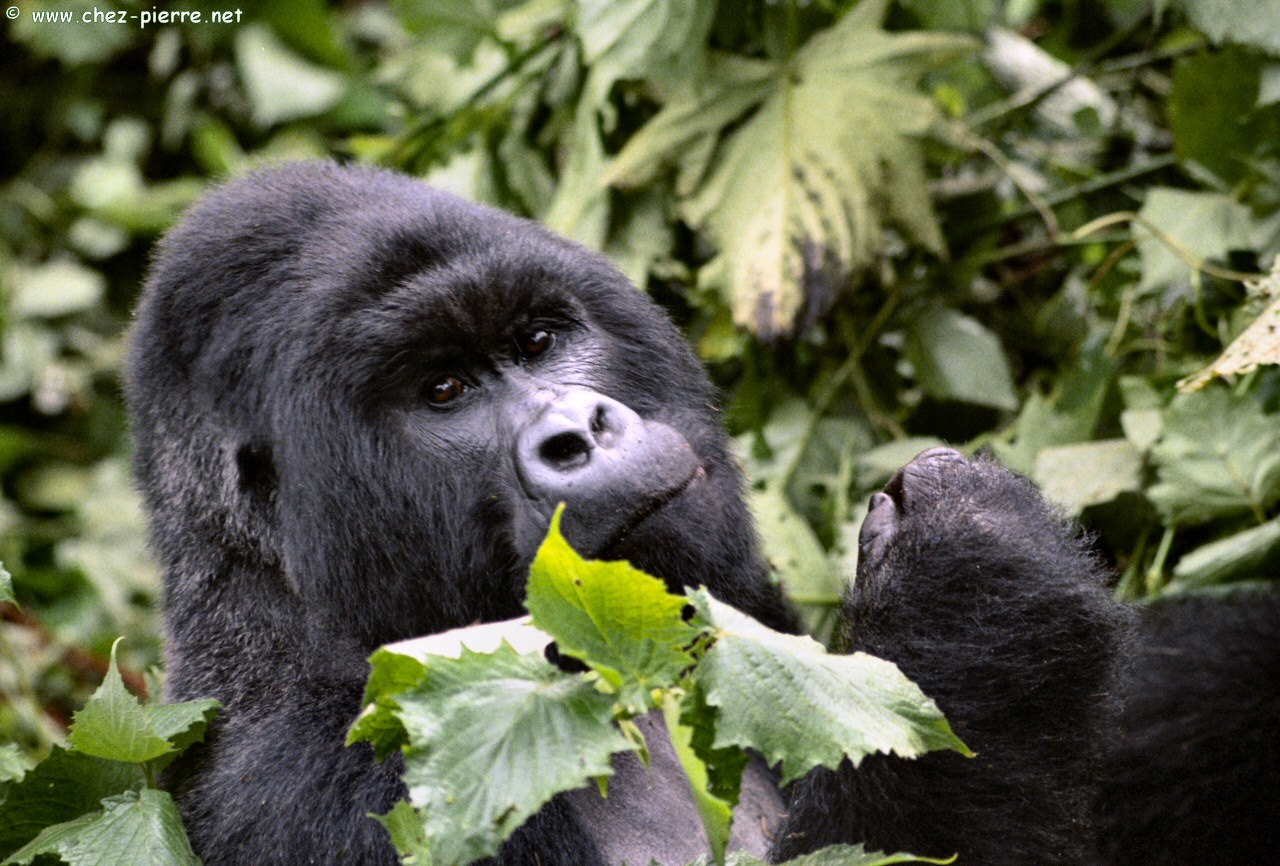Goriila: (97, 116, 858, 866)
